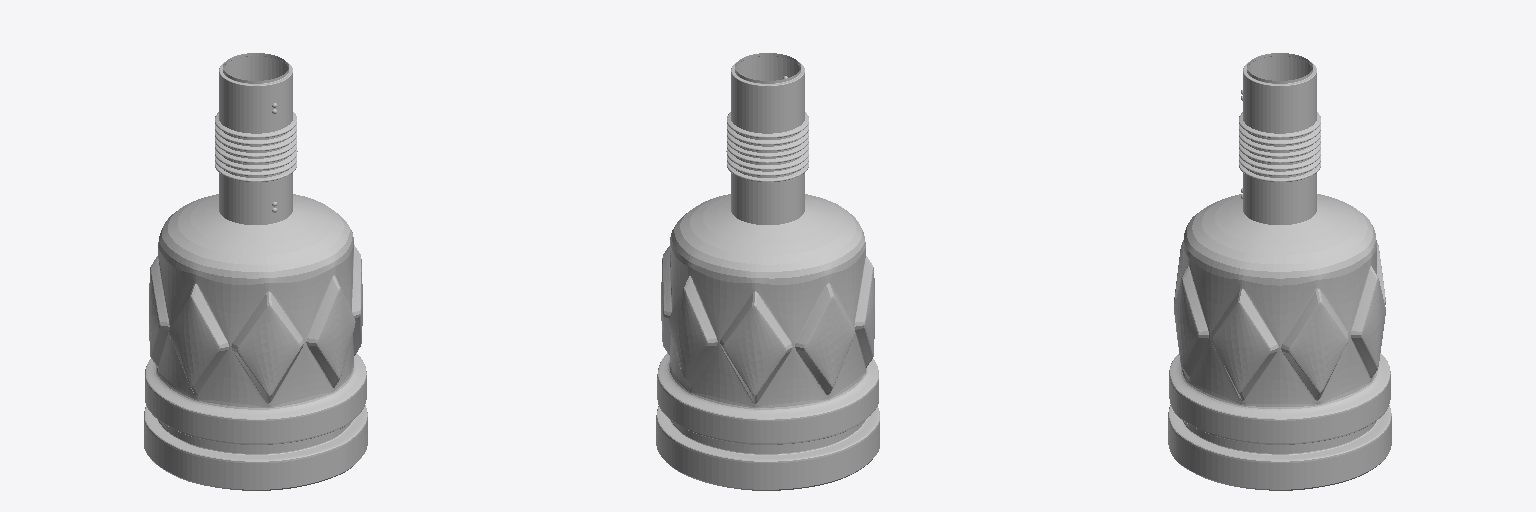
The model's file is simulator_base.obj.
3 views of the same model, side by side, from view 1: azimuth 30°, elevation 25°; view 2: azimuth 150°, elevation 25°; view 3: azimuth 270°, elevation 25° (orthographic).
Parts seen in each view (by area): view 1: mmGroup0, mmGroup2; view 2: mmGroup0, mmGroup2; view 3: mmGroup0, mmGroup2.
Boxes of the visible parts, x1,y1,x2,y2 form: mmGroup0: [144, 194, 367, 490]; mmGroup2: [215, 53, 297, 224]; mmGroup0: [656, 194, 879, 490]; mmGroup2: [726, 53, 808, 224]; mmGroup0: [1168, 194, 1391, 490]; mmGroup2: [1239, 53, 1320, 224].
Bounding box in the file's own units: 20.44 × 38.08 × 20.41.